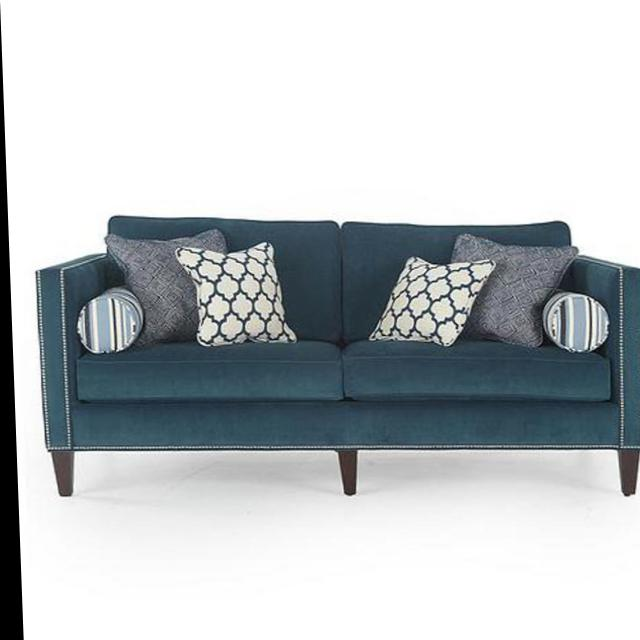Sofa: (34, 218, 640, 496)
